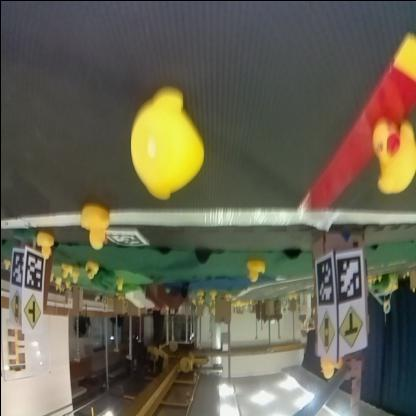Duckie: (130, 90, 198, 200), (372, 119, 414, 194), (80, 205, 108, 249), (318, 357, 340, 378), (245, 260, 264, 282), (36, 232, 52, 258), (84, 263, 96, 280), (59, 264, 70, 275)
Intersection sign: (338, 304, 362, 347), (23, 296, 39, 327)
QR code: (335, 256, 361, 304), (314, 258, 332, 304), (105, 231, 147, 247), (24, 252, 42, 288), (10, 250, 22, 288)
Signal sign: (318, 312, 334, 352), (8, 292, 19, 322)
